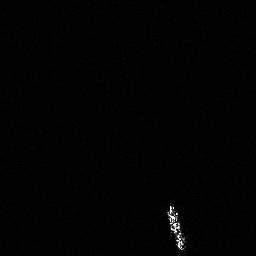ship: (163, 200, 191, 253)
